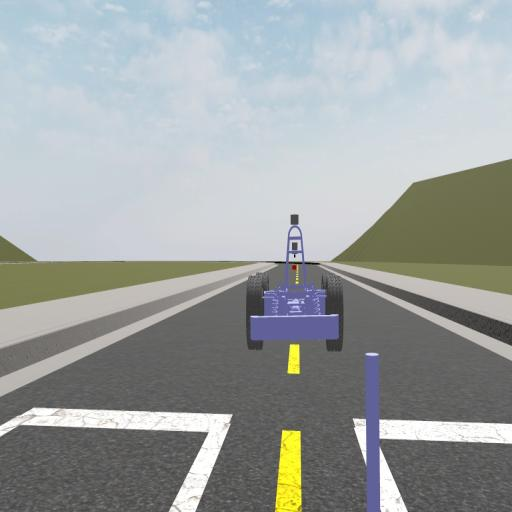ERP-42: (246, 214, 344, 350)
